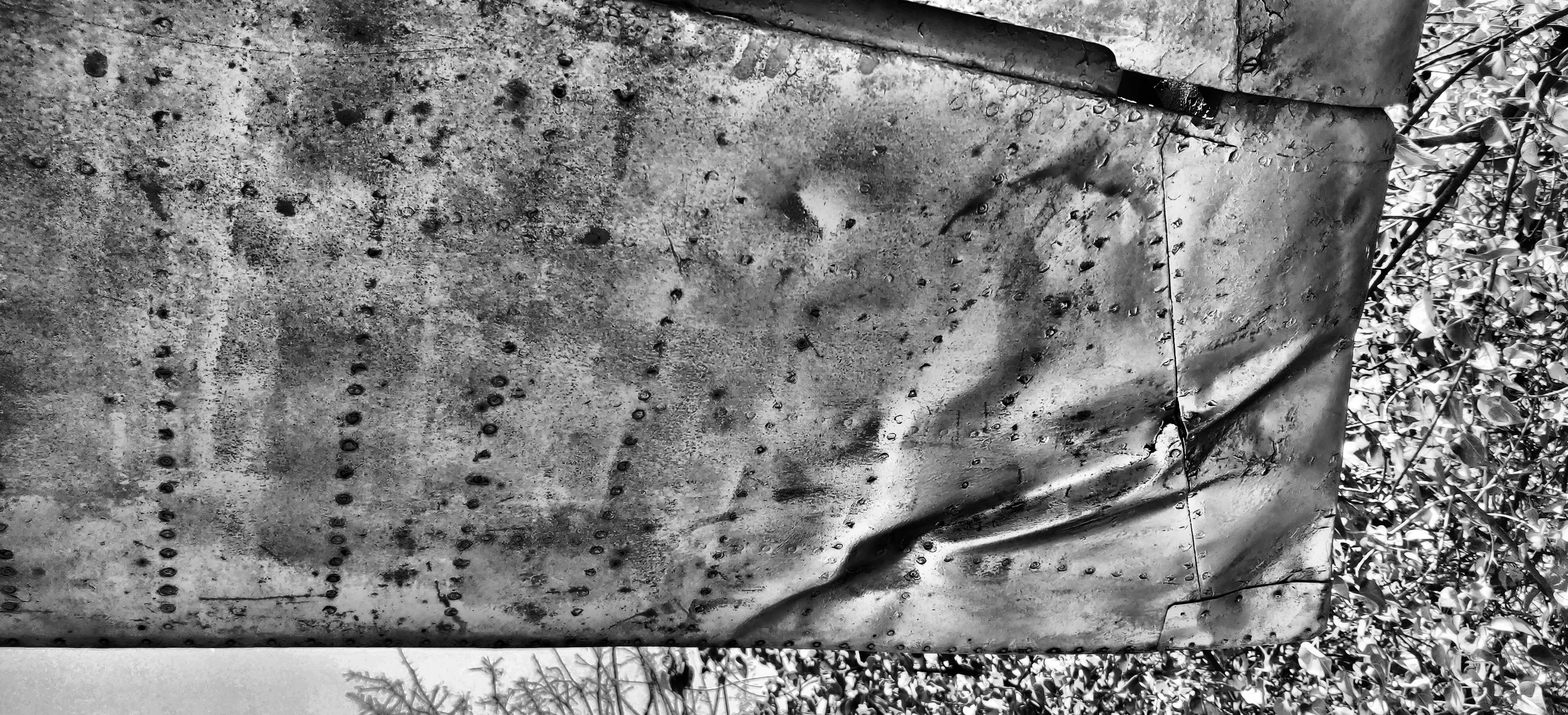crack: (1142, 417, 1179, 463), (1254, 34, 1269, 77)
dent: (941, 327, 1321, 551), (726, 508, 934, 646), (1201, 484, 1337, 598), (1076, 180, 1147, 251), (1337, 176, 1378, 239), (786, 188, 837, 231)
missing-head: (340, 438, 358, 452), (158, 399, 176, 412), (155, 366, 171, 380), (336, 493, 354, 505), (470, 473, 486, 486), (501, 340, 515, 354), (159, 585, 176, 596), (158, 454, 172, 467), (551, 86, 566, 98), (325, 572, 341, 583), (2, 601, 18, 612), (224, 637, 240, 648), (346, 411, 359, 424), (158, 429, 172, 441), (338, 467, 353, 478), (160, 567, 176, 577), (366, 246, 379, 258), (161, 547, 174, 559), (160, 510, 174, 521), (482, 424, 496, 435), (52, 637, 67, 647), (182, 637, 197, 647), (159, 482, 172, 493), (492, 637, 506, 647), (564, 636, 579, 645), (457, 639, 471, 648), (1, 550, 13, 560), (328, 557, 340, 567), (345, 637, 357, 647), (727, 638, 738, 648), (8, 637, 20, 646), (266, 637, 278, 646), (839, 641, 851, 650), (1186, 641, 1198, 650), (598, 638, 611, 646), (306, 637, 316, 647), (423, 638, 433, 648), (383, 637, 394, 646), (783, 639, 794, 648), (693, 604, 704, 613), (1074, 647, 1086, 655), (160, 308, 169, 318), (652, 341, 662, 350), (797, 340, 807, 349), (708, 569, 717, 579), (142, 638, 153, 646), (755, 639, 766, 647), (99, 637, 111, 644), (137, 623, 146, 632), (647, 367, 656, 376), (1100, 646, 1109, 655), (0, 482, 8, 492), (530, 638, 540, 646), (666, 637, 676, 645), (812, 641, 822, 648), (1148, 644, 1158, 651), (1124, 645, 1134, 652), (702, 588, 711, 595), (699, 639, 709, 645), (1049, 648, 1059, 654), (1025, 647, 1035, 653), (633, 637, 641, 644)
scratch: (198, 592, 302, 604)
